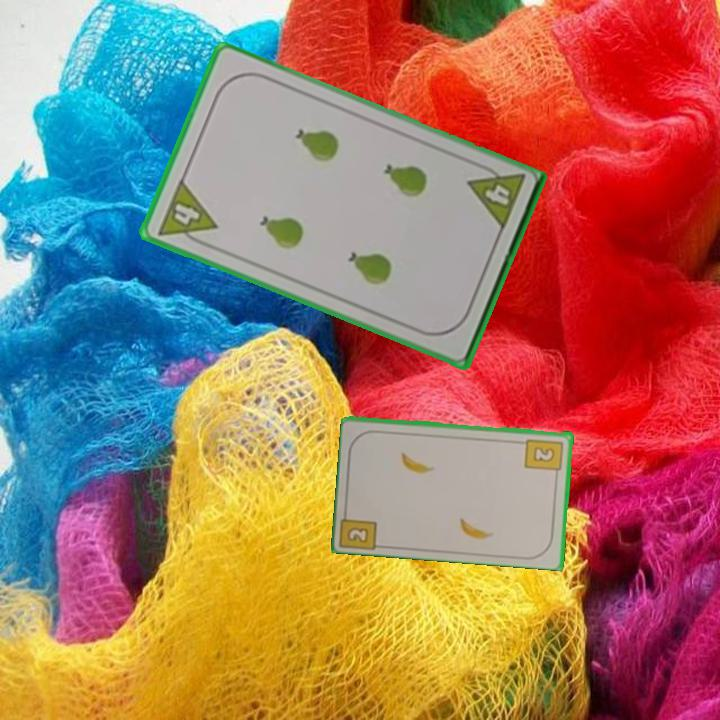2b: (522, 435, 566, 479), (339, 504, 380, 551)
4p: (153, 176, 220, 251), (464, 159, 528, 235)
